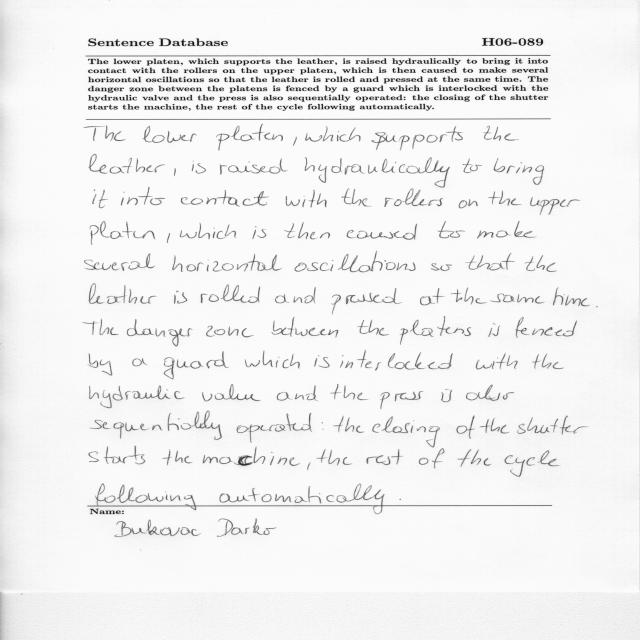word: (165, 484, 385, 506), (305, 157, 450, 188), (92, 411, 222, 440), (295, 251, 416, 272), (371, 126, 463, 151), (340, 351, 453, 371), (237, 413, 312, 443), (90, 386, 185, 409), (372, 417, 440, 448), (400, 316, 471, 345), (172, 254, 282, 272), (203, 446, 300, 466), (331, 288, 402, 315), (164, 351, 229, 380), (216, 124, 283, 151), (127, 319, 193, 346), (91, 221, 156, 245), (89, 154, 165, 174), (96, 484, 164, 506), (505, 450, 560, 477), (181, 190, 269, 206), (272, 317, 339, 338), (494, 158, 545, 185), (89, 284, 157, 304), (517, 416, 588, 435), (515, 317, 577, 338), (85, 253, 155, 271), (201, 285, 260, 304), (347, 224, 417, 240), (220, 159, 288, 175), (384, 189, 443, 207), (477, 221, 535, 239), (89, 446, 145, 464), (202, 385, 261, 402), (245, 351, 300, 369), (143, 126, 197, 143), (530, 197, 580, 215), (305, 126, 361, 142), (180, 223, 236, 239), (466, 253, 516, 270), (466, 384, 514, 401), (121, 188, 165, 206), (284, 222, 330, 239), (380, 391, 423, 409), (553, 288, 590, 307), (286, 190, 327, 207), (476, 354, 518, 370), (84, 125, 125, 141), (275, 287, 316, 303), (330, 385, 369, 401), (277, 386, 318, 401), (451, 288, 487, 305), (317, 449, 353, 466), (458, 449, 492, 467), (367, 449, 404, 465), (83, 319, 119, 335), (89, 353, 113, 376), (525, 255, 557, 272), (342, 189, 372, 207), (490, 294, 544, 304), (206, 326, 254, 337), (334, 416, 365, 433), (162, 449, 193, 466), (419, 448, 445, 468), (488, 191, 522, 206), (484, 126, 517, 141), (357, 320, 389, 335), (532, 354, 564, 369), (438, 221, 465, 238), (457, 415, 476, 439), (480, 418, 509, 433), (420, 288, 445, 305), (93, 190, 108, 209), (462, 159, 482, 173), (314, 355, 330, 368), (192, 161, 206, 174), (253, 226, 267, 239), (459, 199, 478, 208), (174, 291, 187, 304), (431, 263, 452, 271), (489, 323, 500, 337), (441, 389, 452, 402), (132, 358, 147, 366), (326, 495, 335, 502), (293, 137, 297, 146), (167, 233, 170, 243), (308, 463, 311, 470), (174, 169, 176, 177), (322, 423, 324, 430), (596, 306, 598, 307)
